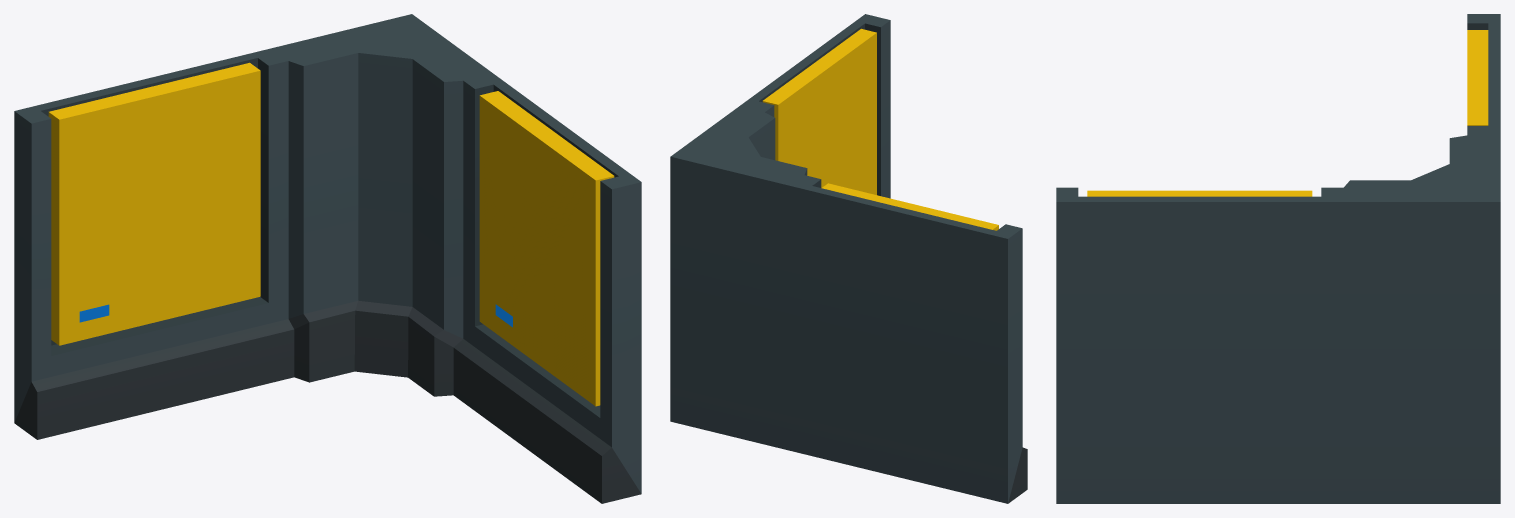
The model's file is Wall_type_C_036.glb.
The picture shows the model from 3 angles, left to right: view 1: azimuth 30°, elevation 25°; view 2: azimuth 150°, elevation 25°; view 3: azimuth 270°, elevation 25°; orthographic projection. The views are drawn at different scales.
Parts seen in each view (by area): view 1: Wall_type_C_036; view 2: Wall_type_C_036; view 3: Wall_type_C_036.
Part boxes in pixels (box(x1,y1,x2,y2)): Wall_type_C_036: box(14, 14, 641, 503); Wall_type_C_036: box(670, 14, 1027, 503); Wall_type_C_036: box(1056, 14, 1500, 503).
Bounding box in the file's own units: 2 × 1.5 × 2.
2 materials, 2 textured.
